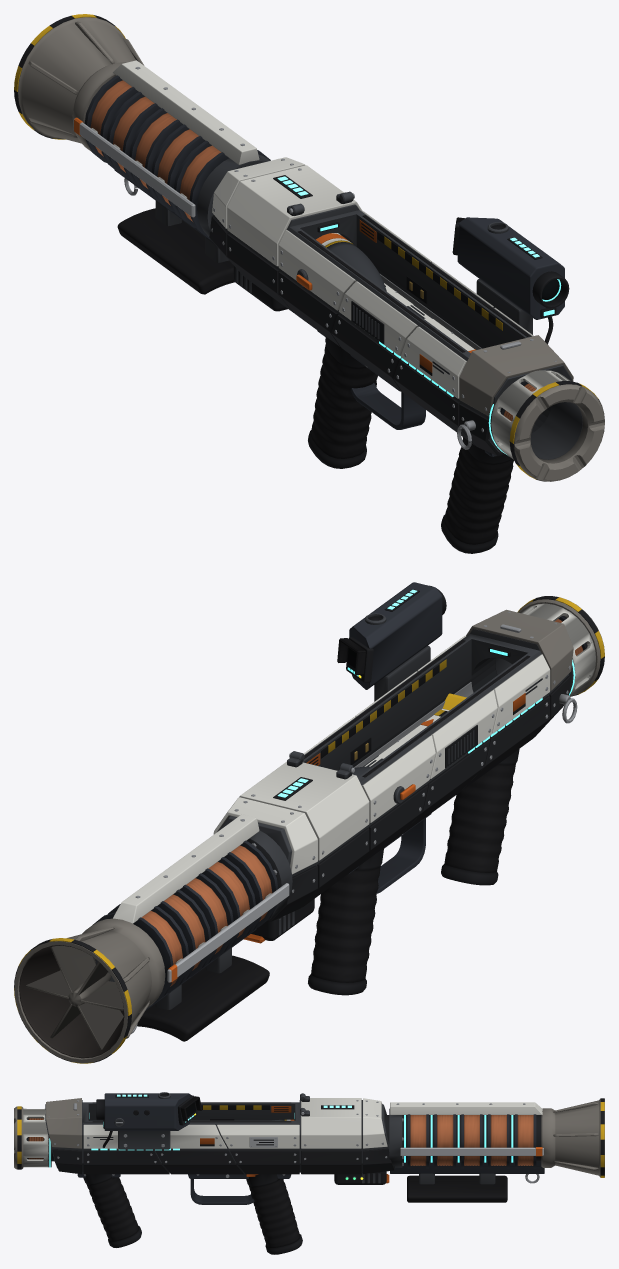
File: lanzacohetes.glb
3 views of the same model, one above another, from view 1: azimuth 30°, elevation 25°; view 2: azimuth 150°, elevation 25°; view 3: azimuth 270°, elevation 25° (orthographic). The views are drawn at different scales.
Visible parts, largest first — view 1: cuerpo, cohete; view 2: cuerpo, puerta; view 3: cuerpo.
Boxes of the visible parts, x1,y1,x2,y2 form: cuerpo: [14, 14, 604, 553]; cohete: [316, 233, 386, 291]; cuerpo: [14, 582, 604, 1063]; puerta: [363, 693, 466, 766]; cuerpo: [14, 1092, 604, 1254].
Bounding box in the file's own units: 0.1433 × 0.2866 × 0.88.
